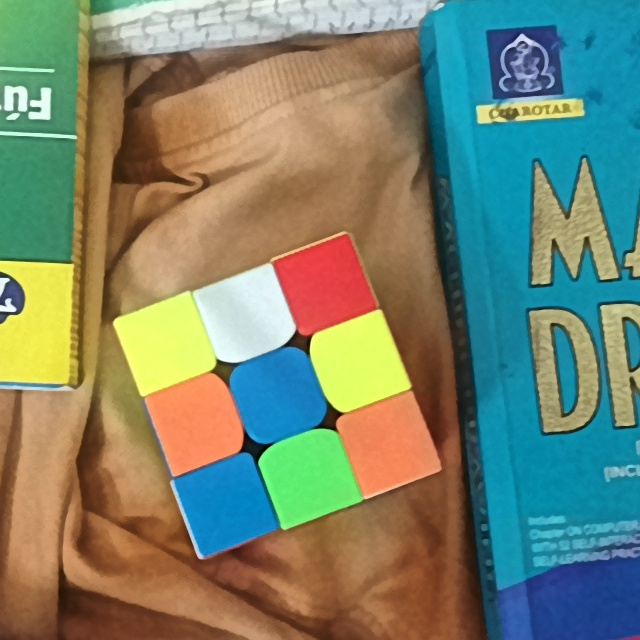tile: (190, 474, 258, 536), (356, 412, 419, 476), (244, 367, 309, 429), (324, 333, 390, 392), (292, 258, 356, 317), (279, 443, 338, 507), (163, 393, 225, 453), (212, 288, 276, 343), (136, 313, 195, 371)
